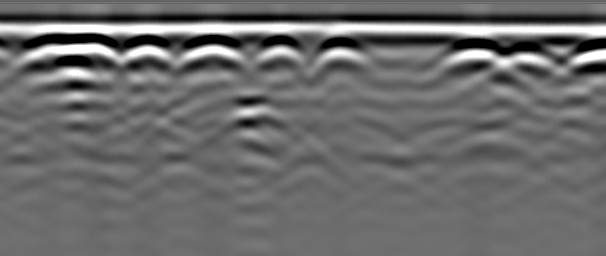steel: (30, 31, 121, 70), (178, 32, 244, 74), (439, 37, 502, 78), (118, 33, 176, 75), (502, 39, 560, 79), (315, 36, 369, 77), (251, 34, 306, 74), (567, 38, 606, 73)
